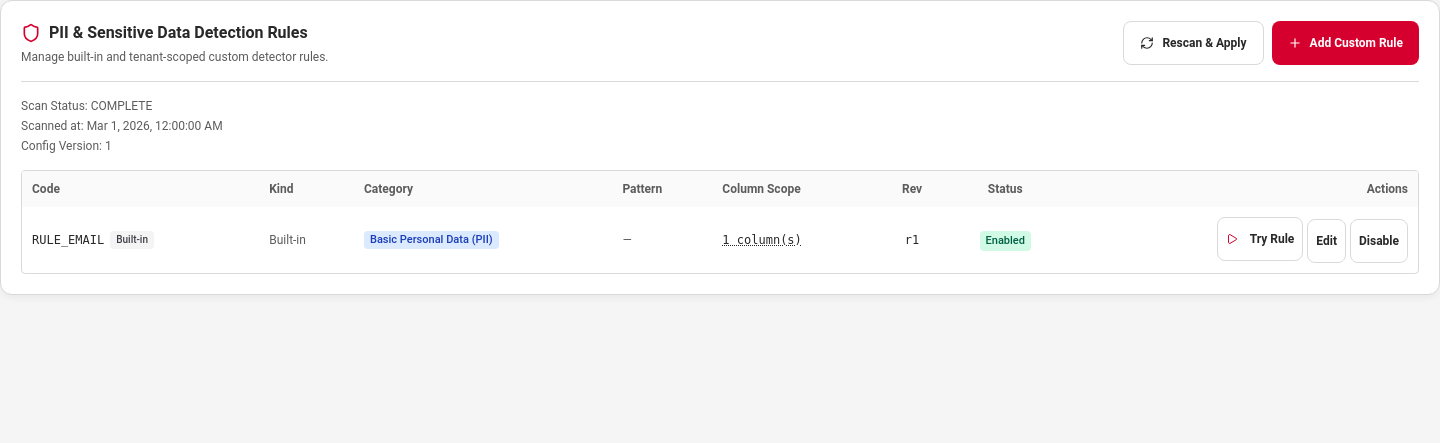
Test case: runs APPLY scan and renders scan completion banner
Check: the text "RULE_EMAIL" is shown, box [32, 232, 104, 248]
Click the button "Rescan & Apply".
click(1193, 43)  # box [1123, 21, 1264, 65]
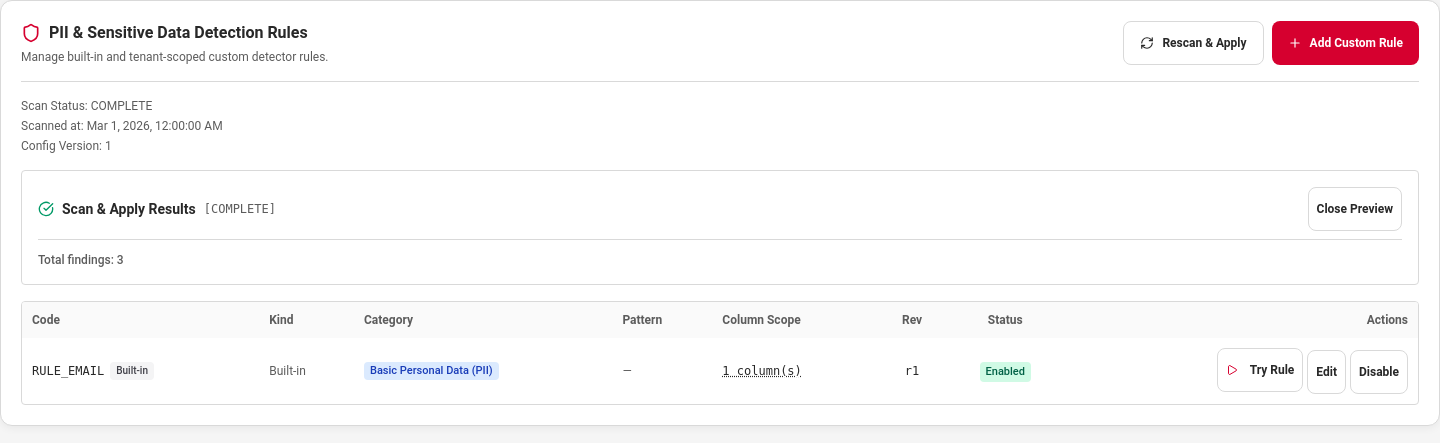
Check: the heading "Scan & Apply Results" is shown, box [62, 199, 196, 219]
Check: the text "[COMPLETE]" is shown, box [204, 201, 276, 217]
